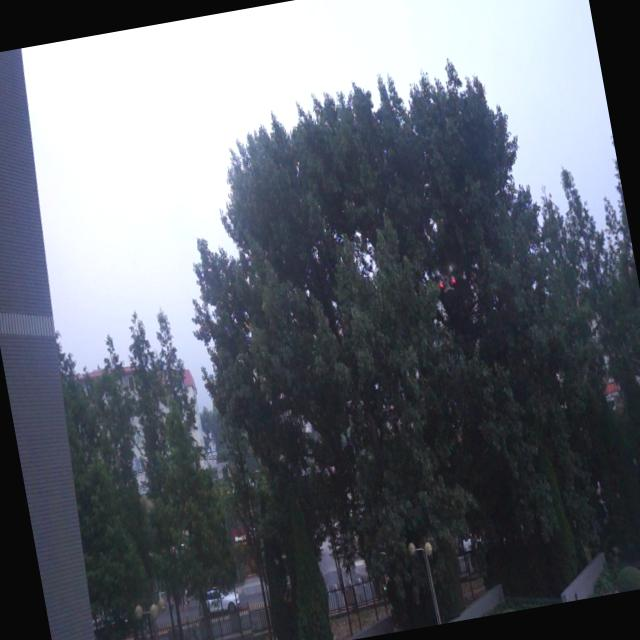drone: (430, 256, 463, 301)
